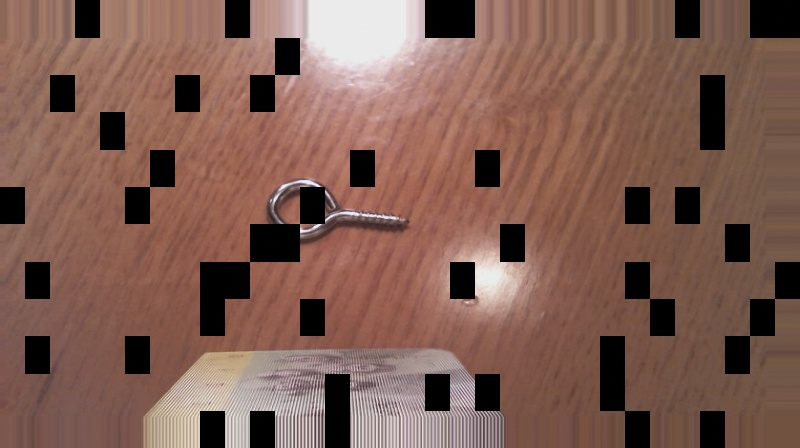O001: (261, 176, 413, 247)
